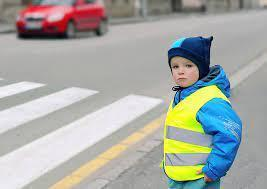NoHelmet: (166, 35, 212, 83)
Vest: (166, 88, 228, 179)
